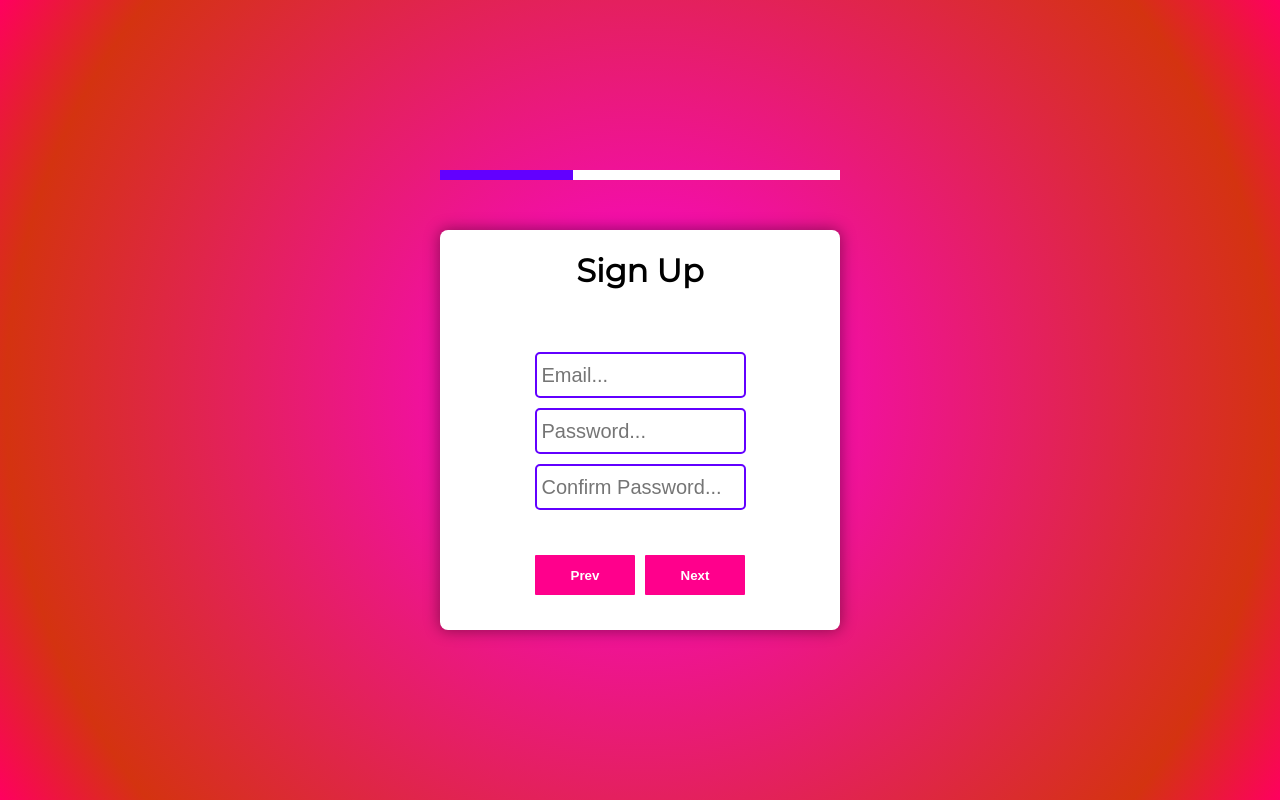
Test: wizard › form › enters and retains sign up information
The width and height of the screenshot is (1280, 800).
Expected: the heading "Sign Up" is shown, x1=576 y1=251 x2=704 y2=290
Click the field with test id "email" at (641, 375), box x1=535 y1=352 x2=746 y2=398
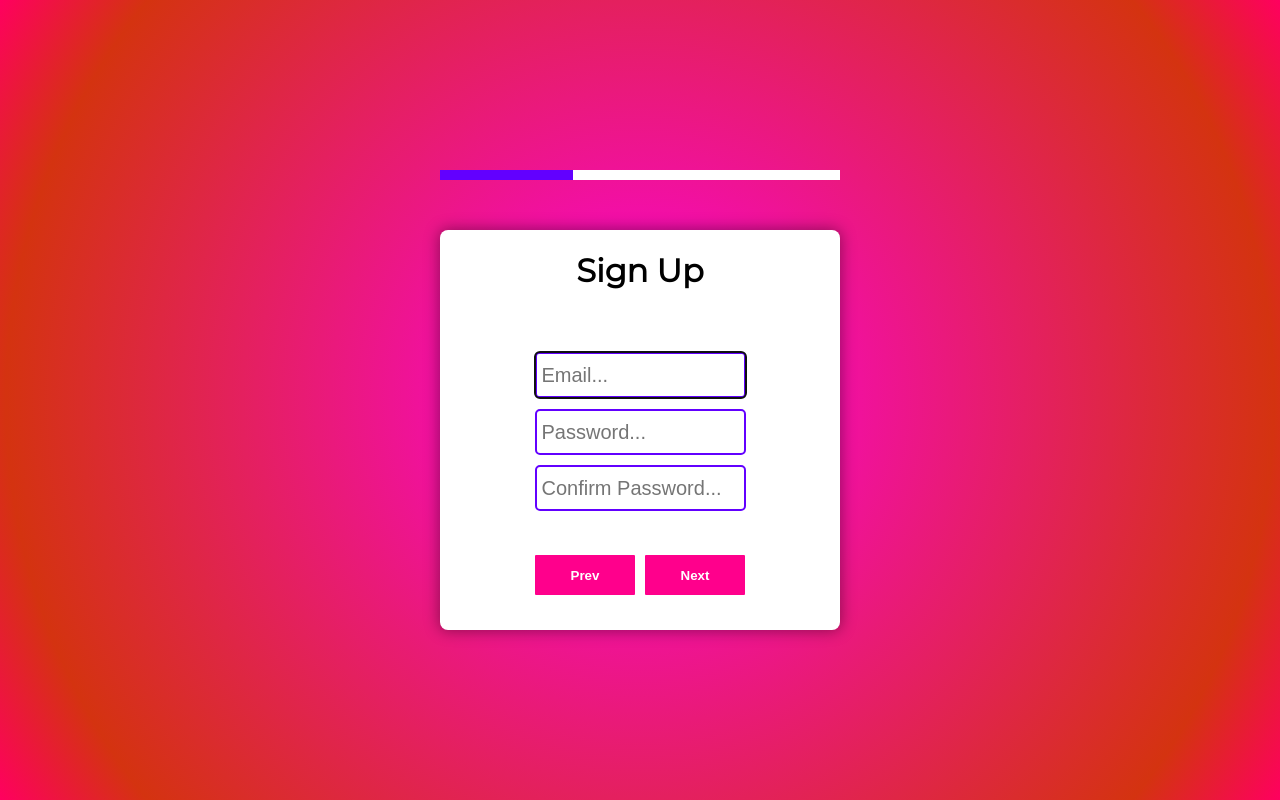
Type "hopper@hawkinspd.com" into the field with test id "email" at (641, 375), box x1=534 y1=351 x2=747 y2=399
Click the password field with test id "password" at (641, 432), box x1=535 y1=409 x2=746 y2=455
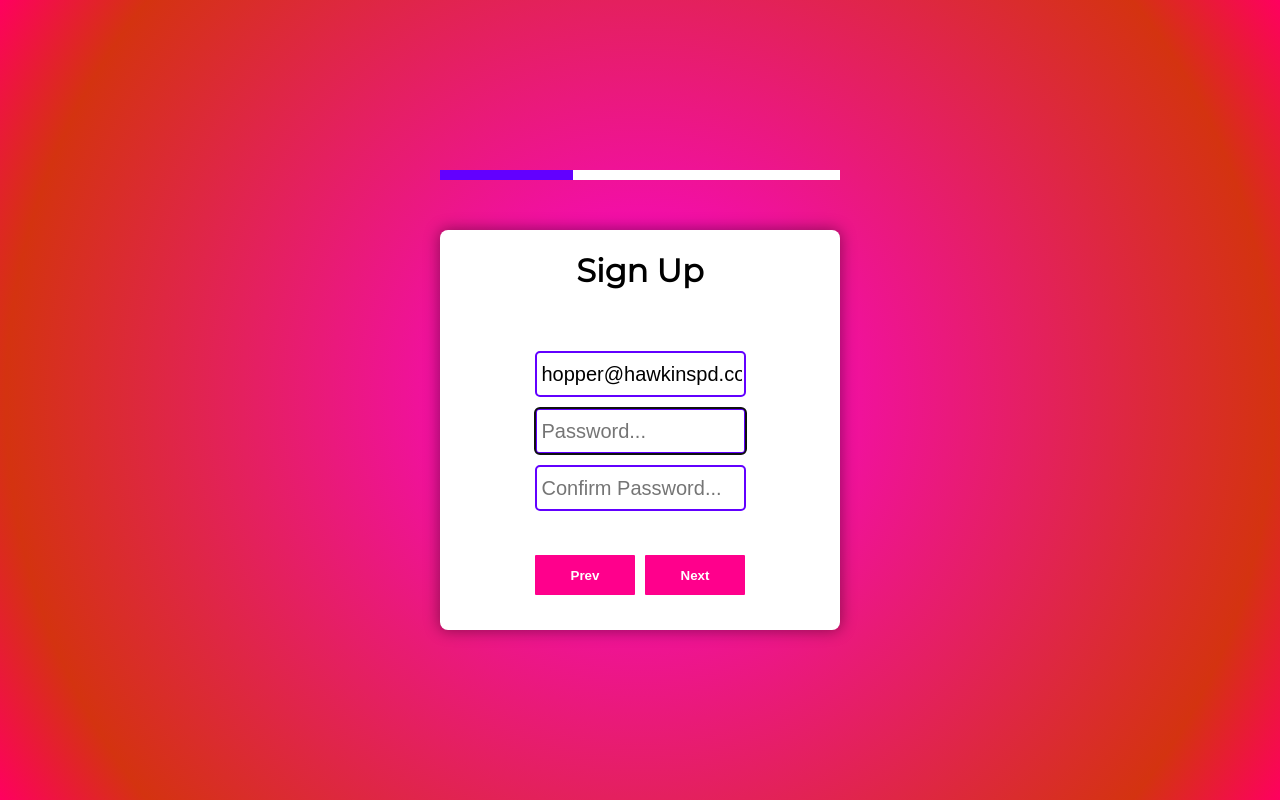
Type "demiluvr" into the password field with test id "password" at (641, 431), box x1=534 y1=407 x2=747 y2=455
Click the password field with test id "confirm-password" at (641, 488), box x1=535 y1=465 x2=746 y2=511
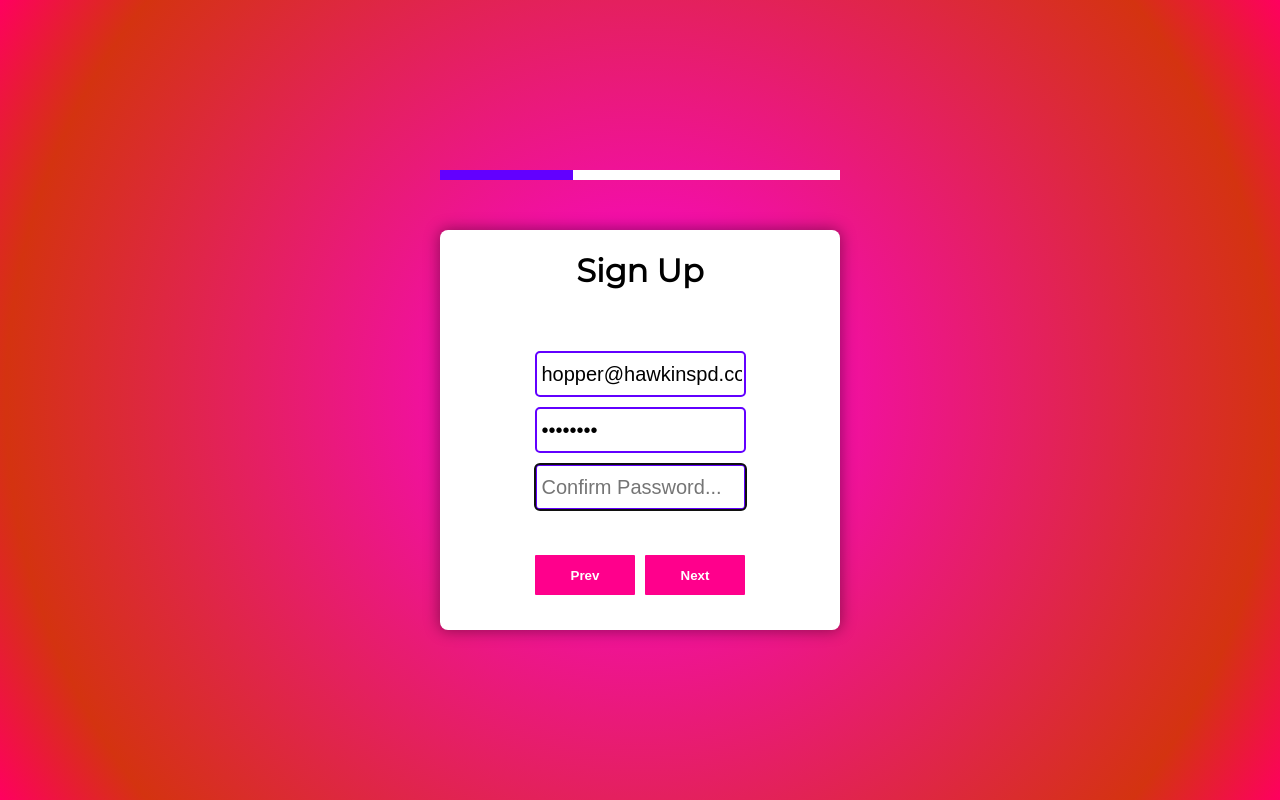
Type "demiluvr" into the password field with test id "confirm-password" at (641, 487), box x1=534 y1=463 x2=747 y2=511
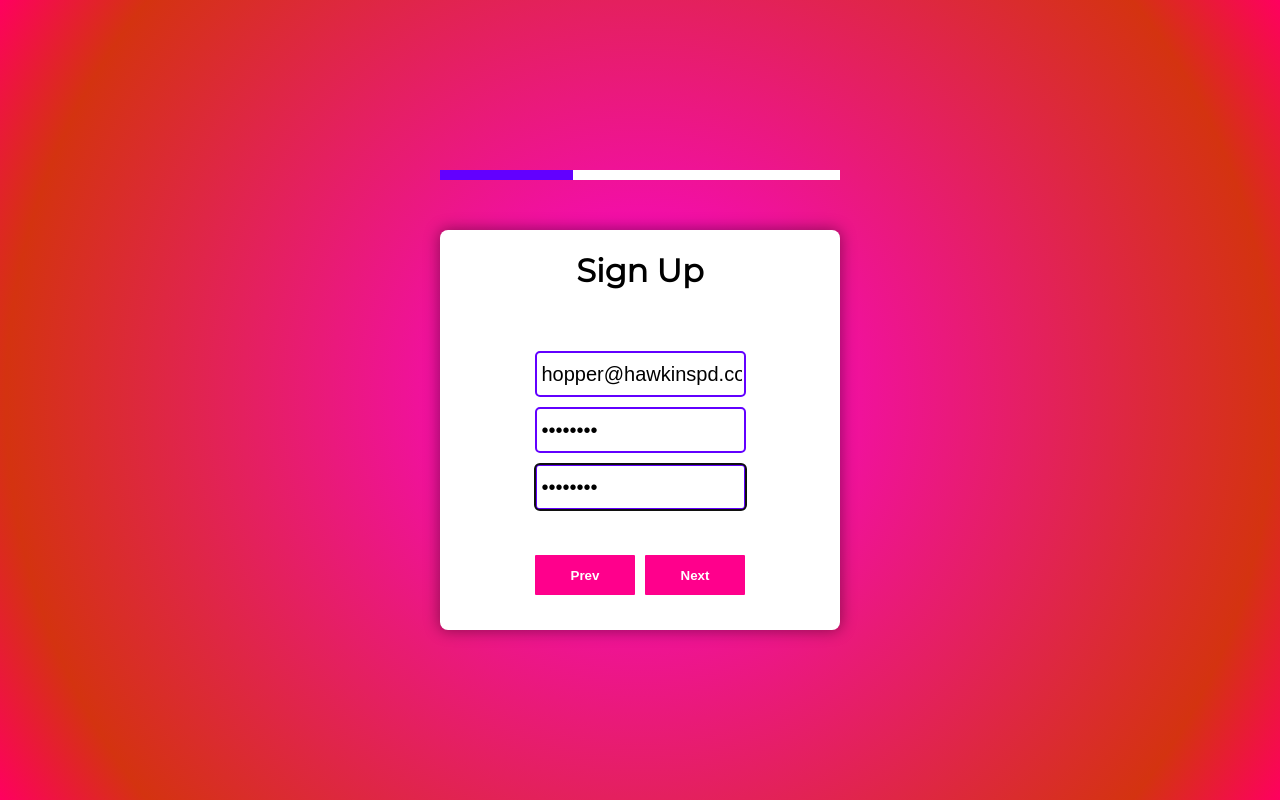
Expected: the button with test id "prev-button" is disabled, x1=535 y1=556 x2=635 y2=596
Click the button with test id "next-button" at (695, 576), box x1=645 y1=556 x2=745 y2=596
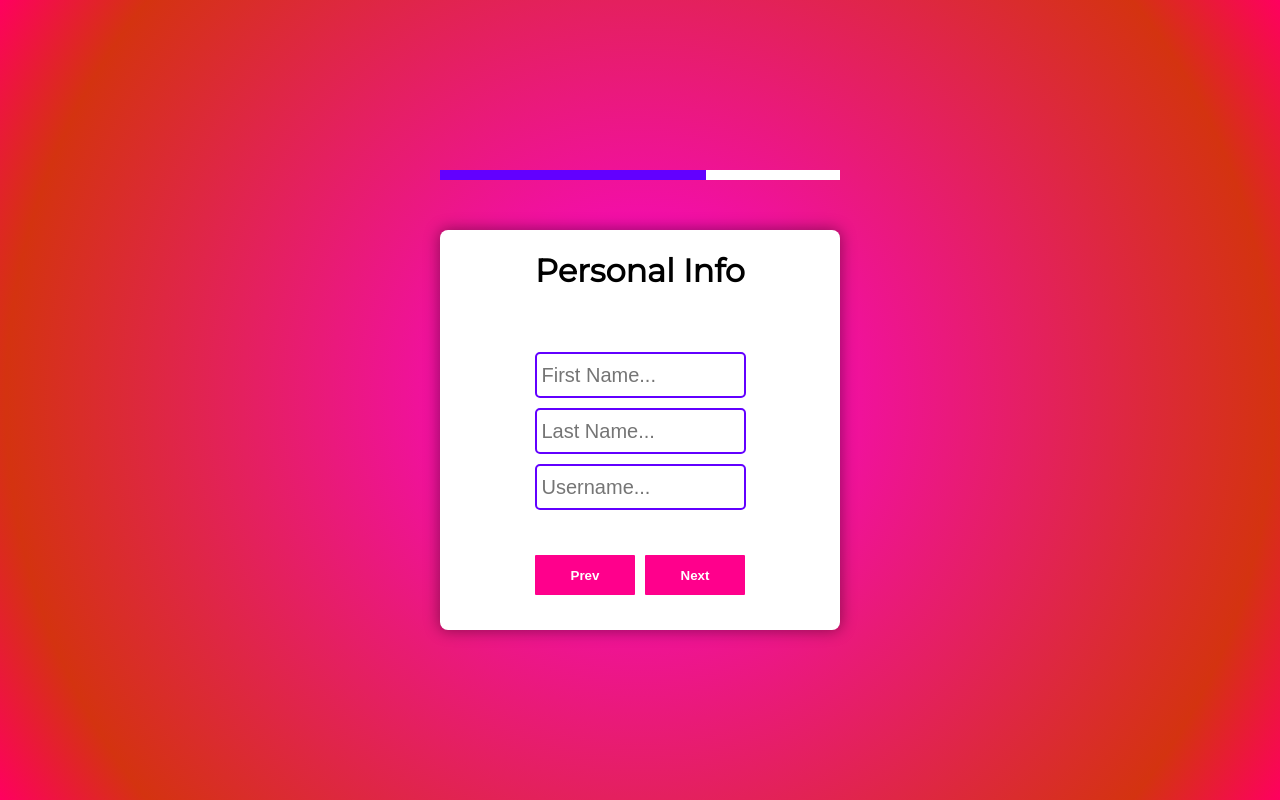
Click the button with test id "prev-button" at (585, 576), box x1=535 y1=556 x2=635 y2=596
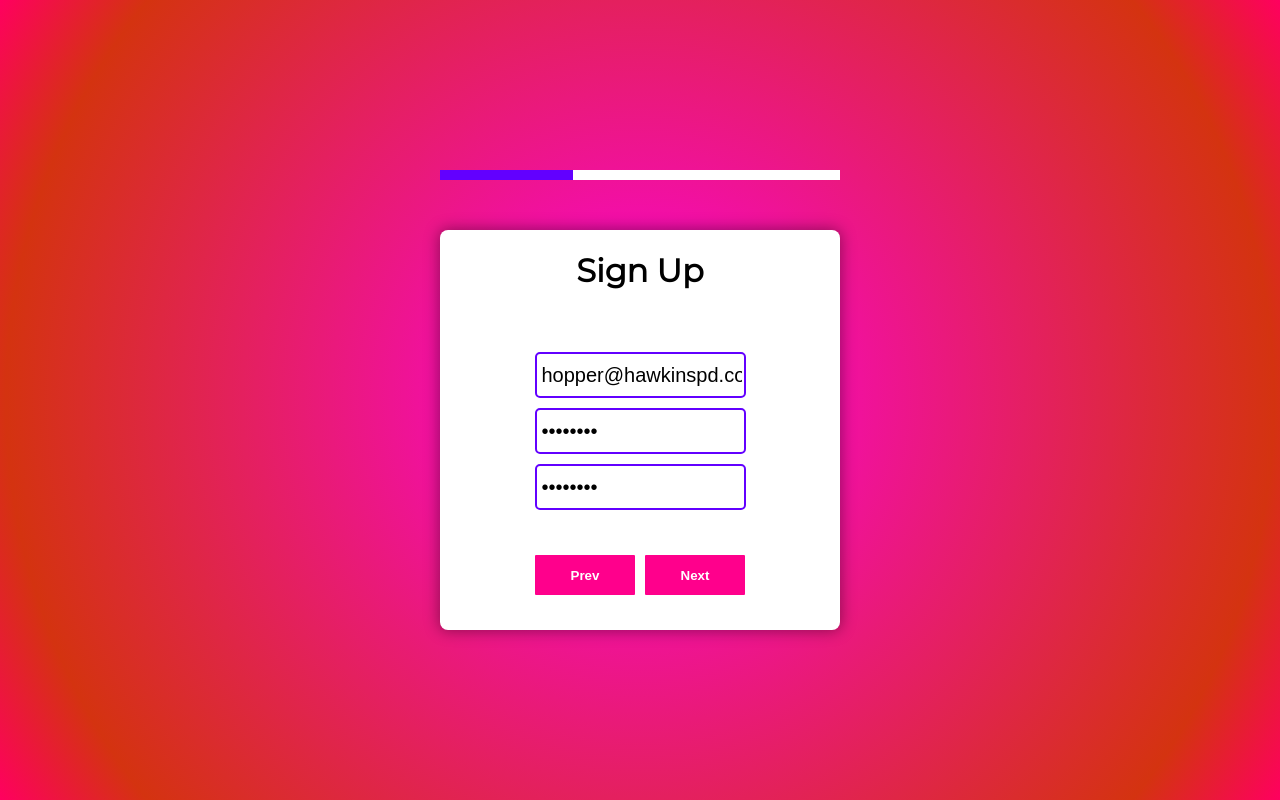
Now the field with test id "email" holds "hopper@hawkinspd.com", box x1=535 y1=352 x2=746 y2=398
Now the password field with test id "password" holds "demiluvr", box x1=535 y1=408 x2=746 y2=454
Now the password field with test id "confirm-password" holds "demiluvr", box x1=535 y1=464 x2=746 y2=510
